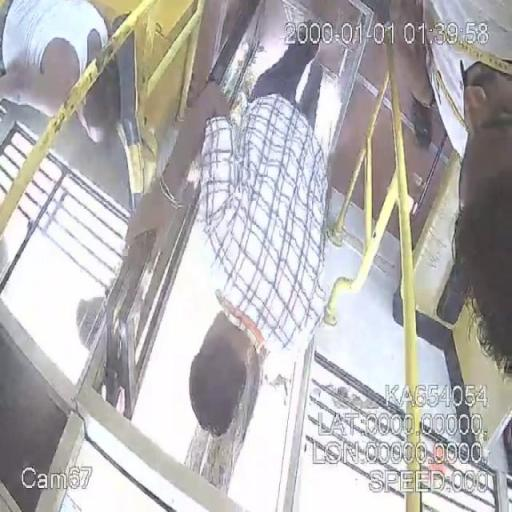persona: (191, 12, 332, 458), (420, 0, 512, 376), (0, 5, 124, 141)
